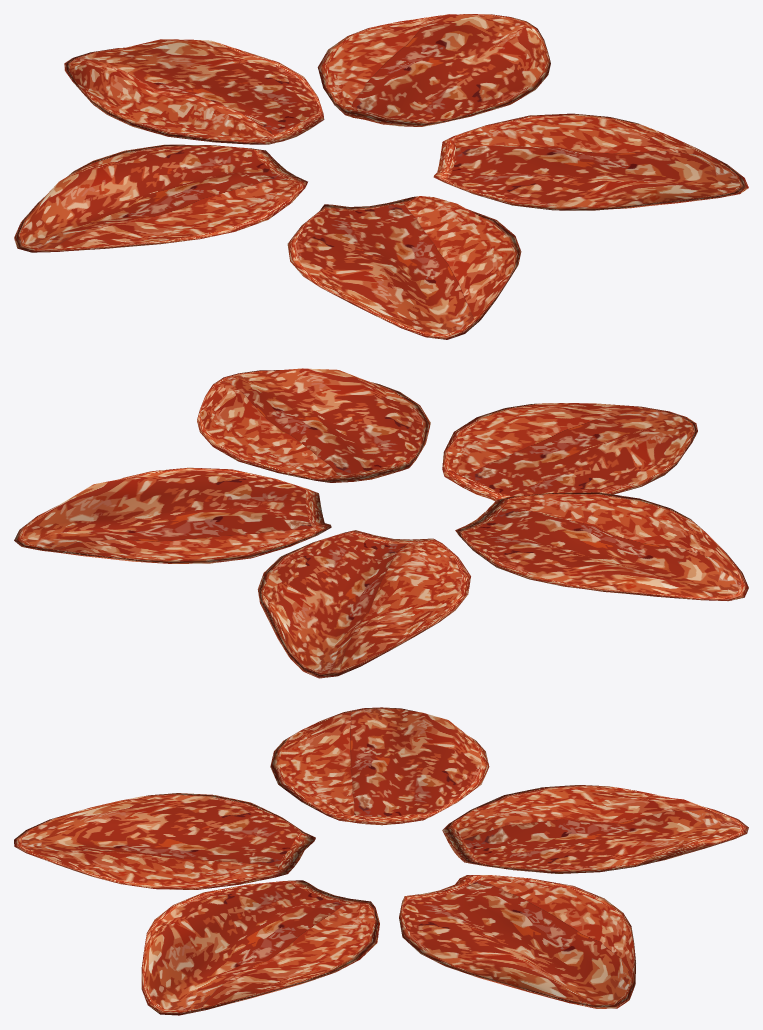
File: FlowerPetalsPivotCorrect.fbx
3 views of the same model, one above another, from view 1: azimuth 30°, elevation 25°; view 2: azimuth 150°, elevation 25°; view 3: azimuth 270°, elevation 25° (orthographic).
Parts seen in each view (by area): view 1: polySurface5, polySurface4, polySurface1, polySurface3, polySurface2; view 2: polySurface3, polySurface1, polySurface2, polySurface4, polySurface5; view 3: polySurface4, polySurface3, polySurface5, polySurface2, polySurface1.
Boxes of the visible parts, box(x1,y1,x2,y2) form: polySurface5: box(287, 196, 521, 339); polySurface4: box(433, 113, 748, 210); polySurface1: box(14, 144, 307, 252); polySurface3: box(317, 14, 550, 126); polySurface2: box(64, 39, 324, 144); polySurface3: box(14, 467, 331, 563); polySurface1: box(455, 492, 748, 601); polySurface2: box(257, 530, 470, 678); polySurface4: box(197, 368, 430, 482); polySurface5: box(442, 403, 697, 501); polySurface4: box(141, 880, 379, 1015); polySurface3: box(399, 875, 635, 1008); polySurface5: box(14, 793, 315, 889); polySurface2: box(442, 785, 748, 873); polySurface1: box(270, 707, 489, 825).
Size of the model in its own units: 12.3 by 0.7779 by 12.67.
